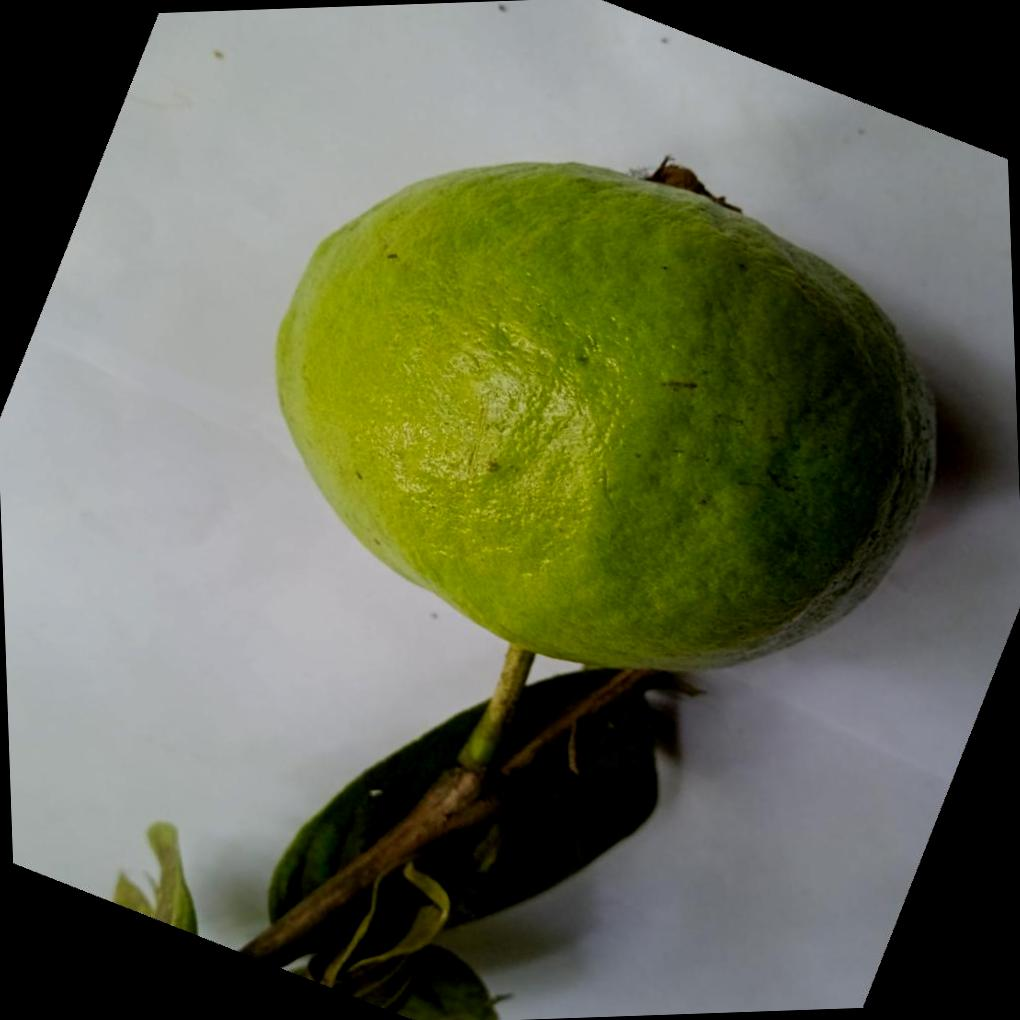FreshGuava: (272, 157, 938, 666)
